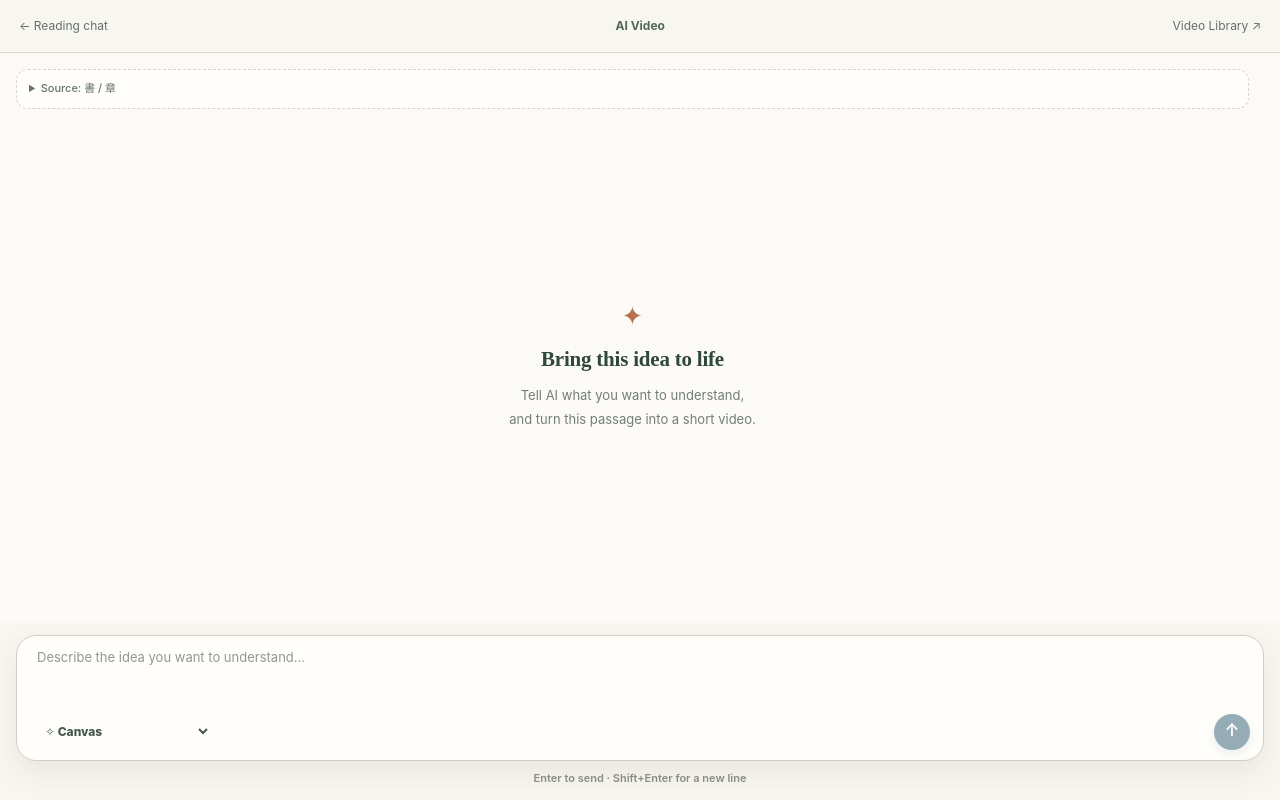
Test: S4: failure preserves saved question and retries AI without duplicating it
Type "比較兩者" into the text box named "Describe your video idea". click: (642,681)
box: 35,648 -> 1250,714
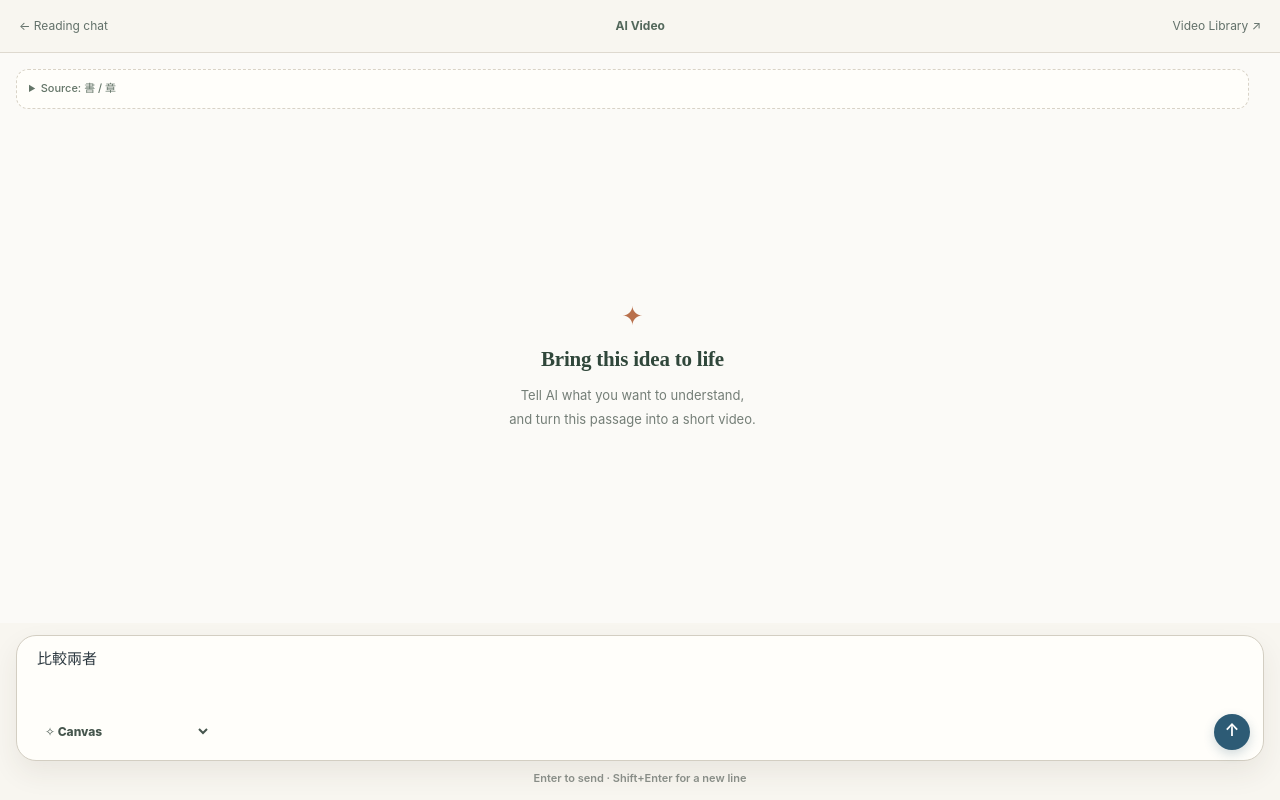
Click the button named "Send". click: (1232,732)
box: 1214,714 -> 1250,750
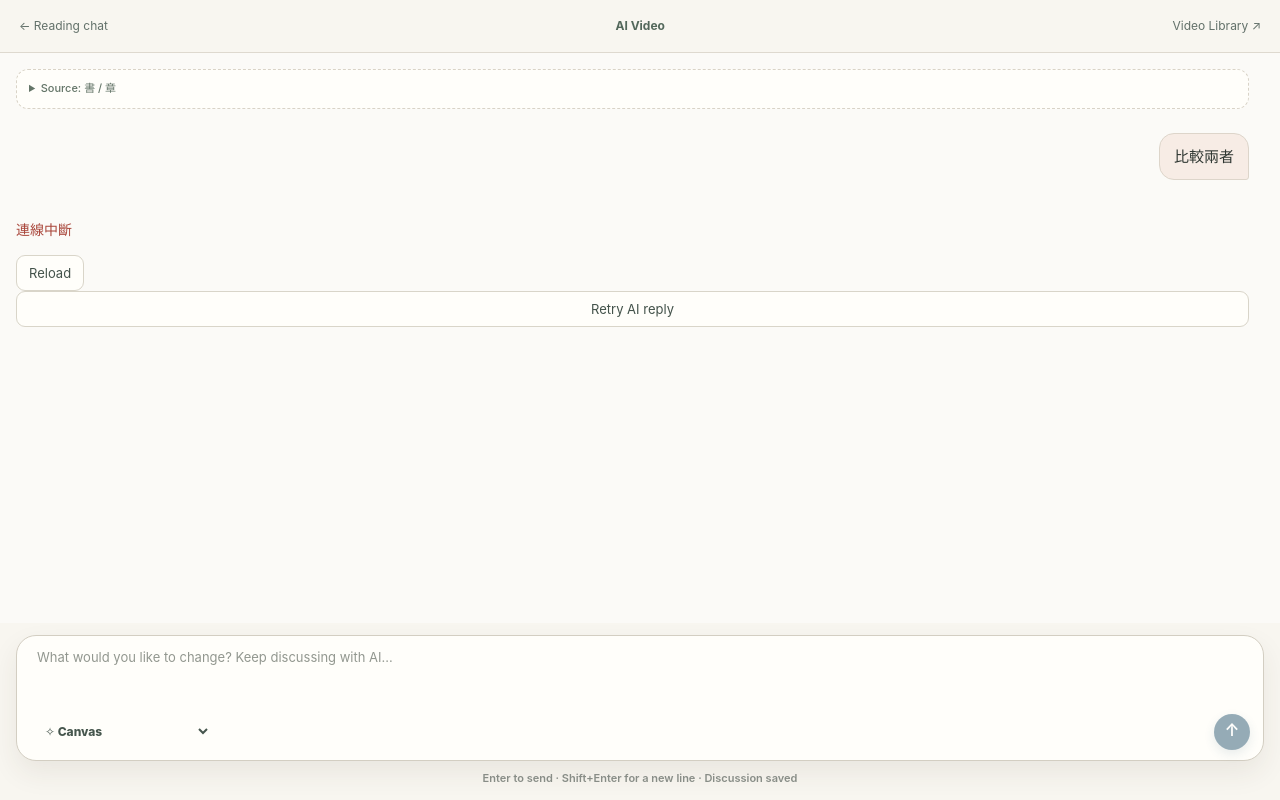
Check: the text "連線中斷" is shown, box 16,221 -> 72,238
Check: the text "比較兩者" is shown, box 1159,133 -> 1249,180
Click the button "Retry AI reply". click: (632,309)
box: 16,291 -> 1249,327
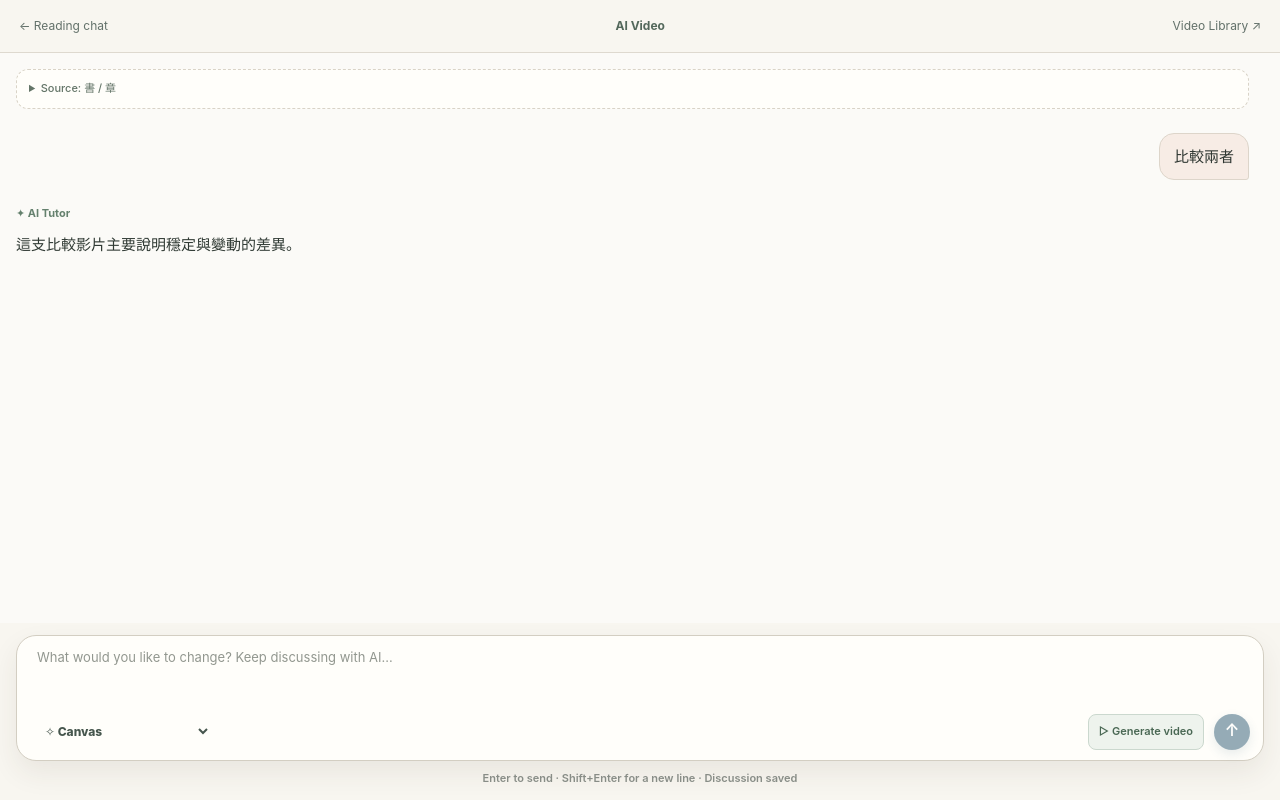
Check: the text "這支比較影片主要說明穩定與變動的差異。" is shown, box 16,235 -> 301,254
